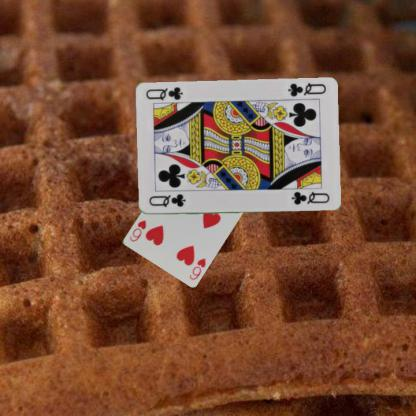6h: (186, 255, 206, 281)
Qc: (285, 80, 327, 99), (146, 192, 187, 209)
